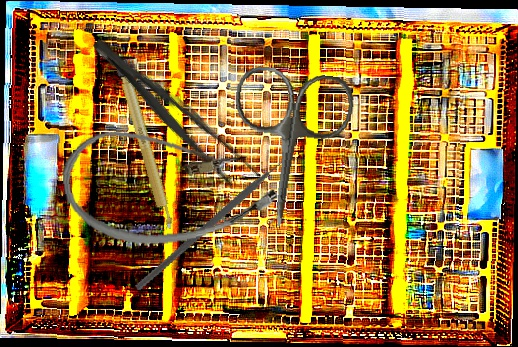Cannula: (58, 113, 281, 254)
Chopper: (134, 121, 306, 327)
Dressing Forceps: (84, 29, 264, 196)
Iris Scissors: (218, 63, 358, 235)
Scalpel Handle: (113, 58, 176, 232)
